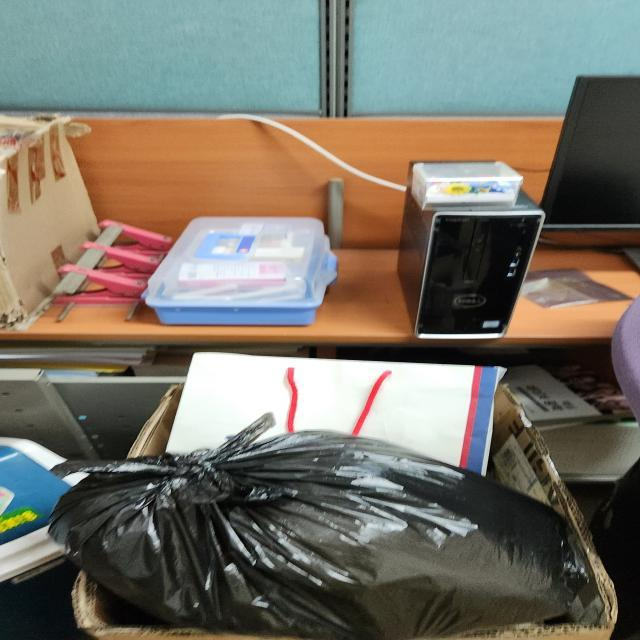black_bag: (50, 413, 597, 630)
